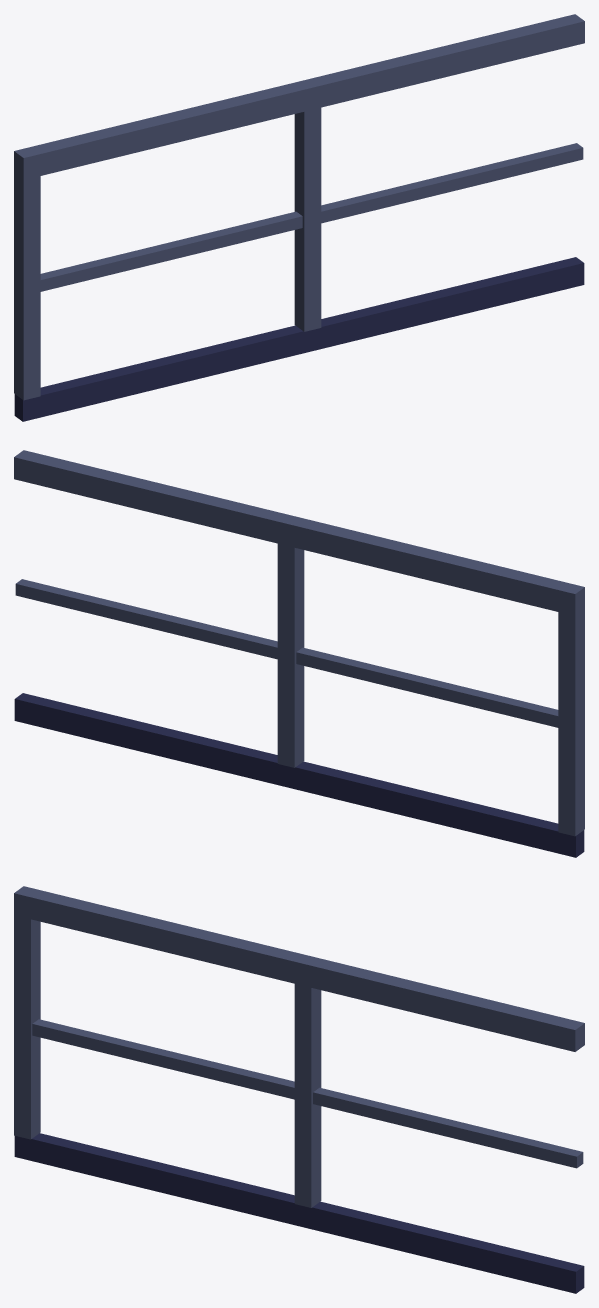
The model's file is Railing_8.fbx.
The picture shows the model from 3 angles, top to bottom: view 1: azimuth 30°, elevation 25°; view 2: azimuth 150°, elevation 25°; view 3: azimuth 330°, elevation 25°; orthographic projection.
Parts seen in each view (by area): view 1: Railing_8; view 2: Railing_8; view 3: Railing_8.
Part boxes in pixels (bbox=[...]): Railing_8: bbox=[14, 14, 584, 421]; Railing_8: bbox=[14, 450, 584, 857]; Railing_8: bbox=[14, 886, 584, 1293].
Bounding box in the file's own units: 8 × 3.6 × 0.24.
1 material, 1 textured.
